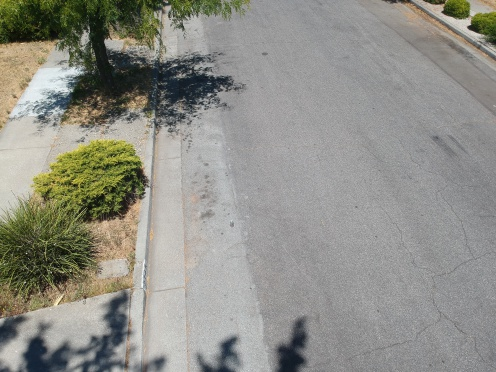can: (224, 218, 239, 231)
